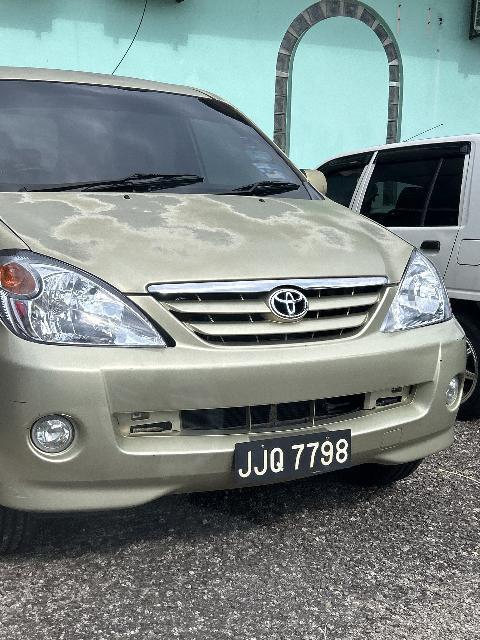JJQ7798: (229, 430, 355, 491)
License_Plate: (229, 430, 355, 491)
car: (1, 59, 469, 520)
